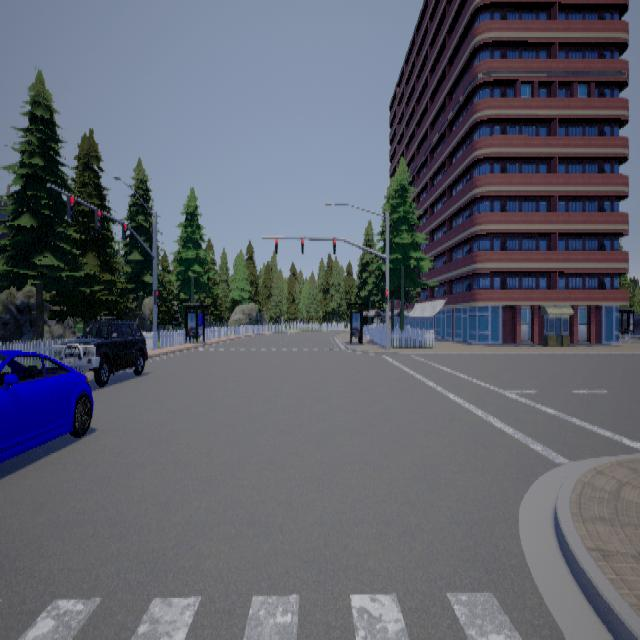red_light: (66, 194, 74, 219), (94, 207, 101, 229), (121, 221, 127, 239), (153, 288, 158, 303), (274, 235, 278, 252), (333, 236, 336, 254), (301, 237, 304, 254), (385, 289, 388, 304)
vehicle: (0, 315, 93, 466), (56, 315, 150, 387)
